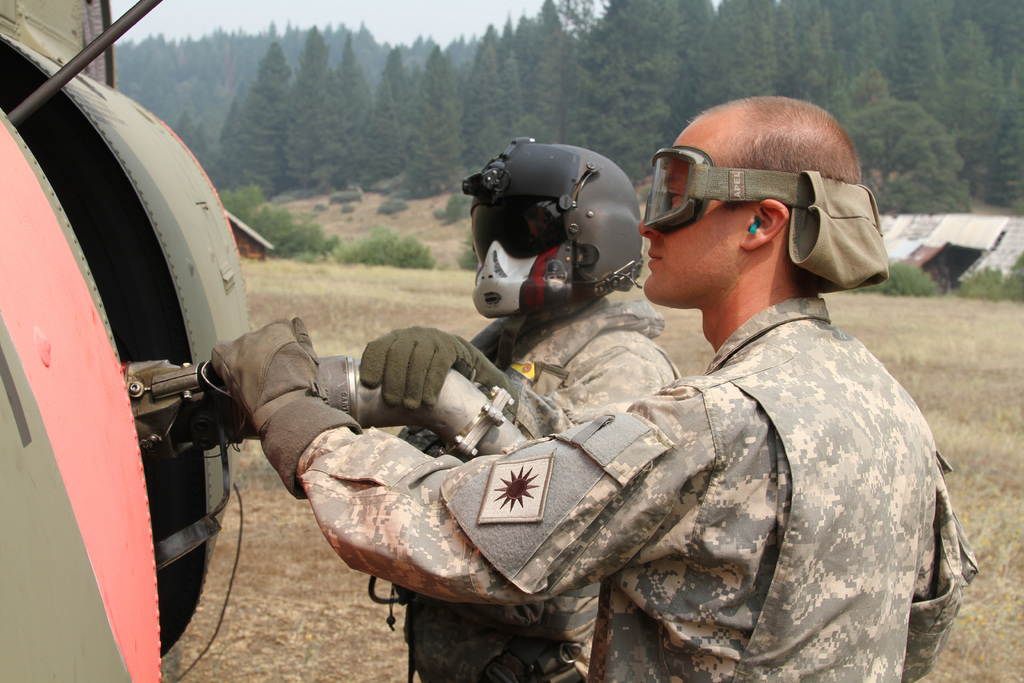Human_hand: (182, 325, 321, 448), (359, 325, 481, 413)
